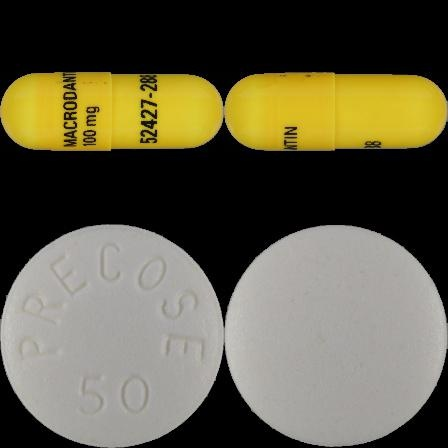47781-308: (0, 0, 224, 224)
